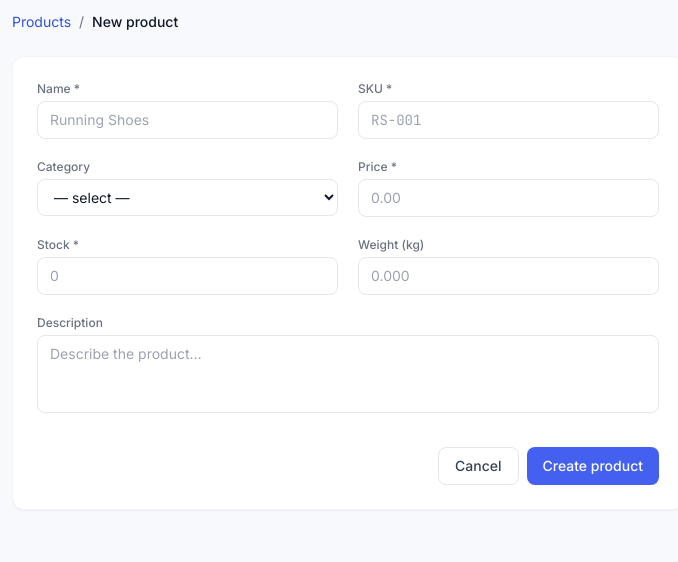
Scenario: ProductFormPage › create mode › shows validation error when SKU is missing
Type "My Shoe" into the field with placeholder "Running Shoes".
click(188, 120); type("My Shoe")  # box [37,101,338,139]
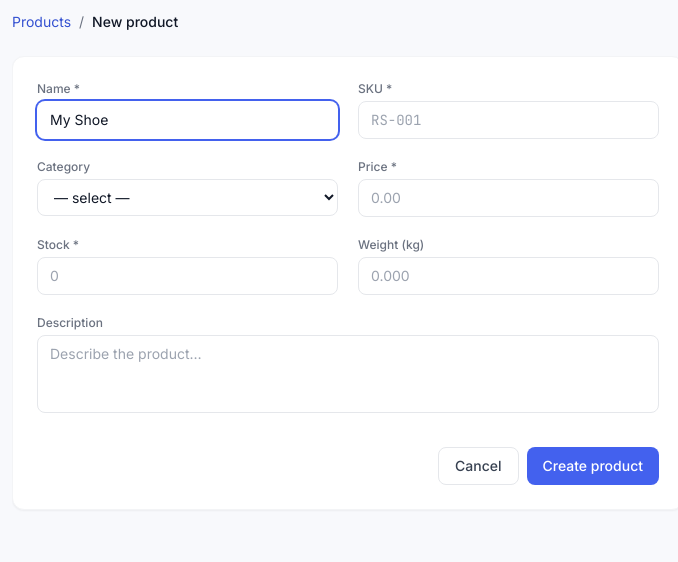
Click the button "Create product".
click(593, 466)  # box [526,447,659,485]
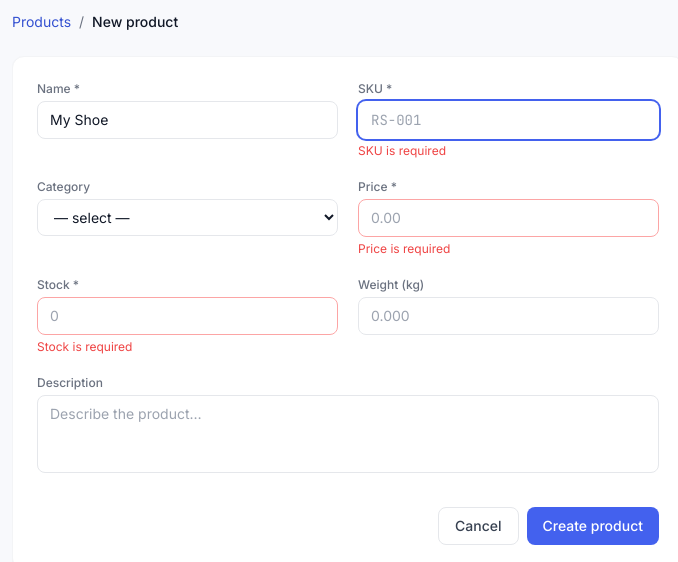
expect the text "SKU is required" is shown: met, box [358,143,446,158]
